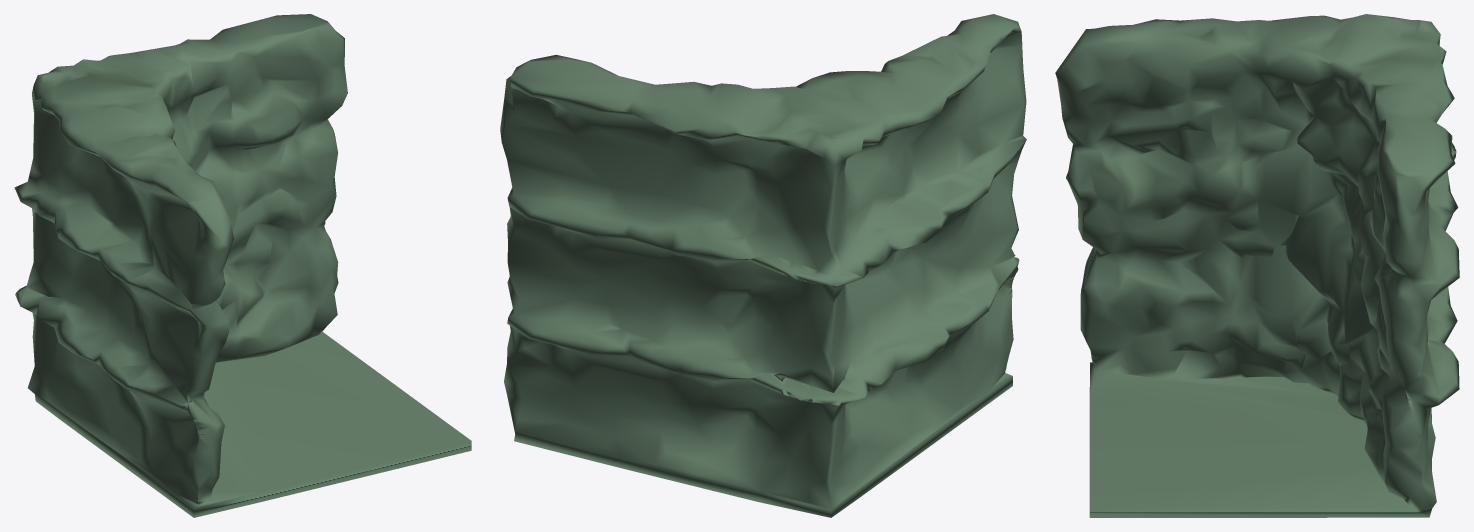
Rendered from triCornerCliff_FixedV1_UV.fbx.
3 views of the same model, side by side, from view 1: azimuth 30°, elevation 25°; view 2: azimuth 150°, elevation 25°; view 3: azimuth 270°, elevation 25° (orthographic). The views are drawn at different scales.
Visible parts, largest first — view 1: fullTriwGround1_DECIM2; view 2: fullTriwGround1_DECIM2; view 3: fullTriwGround1_DECIM2.
Part boxes in pixels (x1,y1,x2,y2): fullTriwGround1_DECIM2: (14, 14, 471, 517); fullTriwGround1_DECIM2: (500, 14, 1026, 517); fullTriwGround1_DECIM2: (1055, 14, 1459, 517).
Size of the model in its own units: 1863 by 1797 by 1845.
